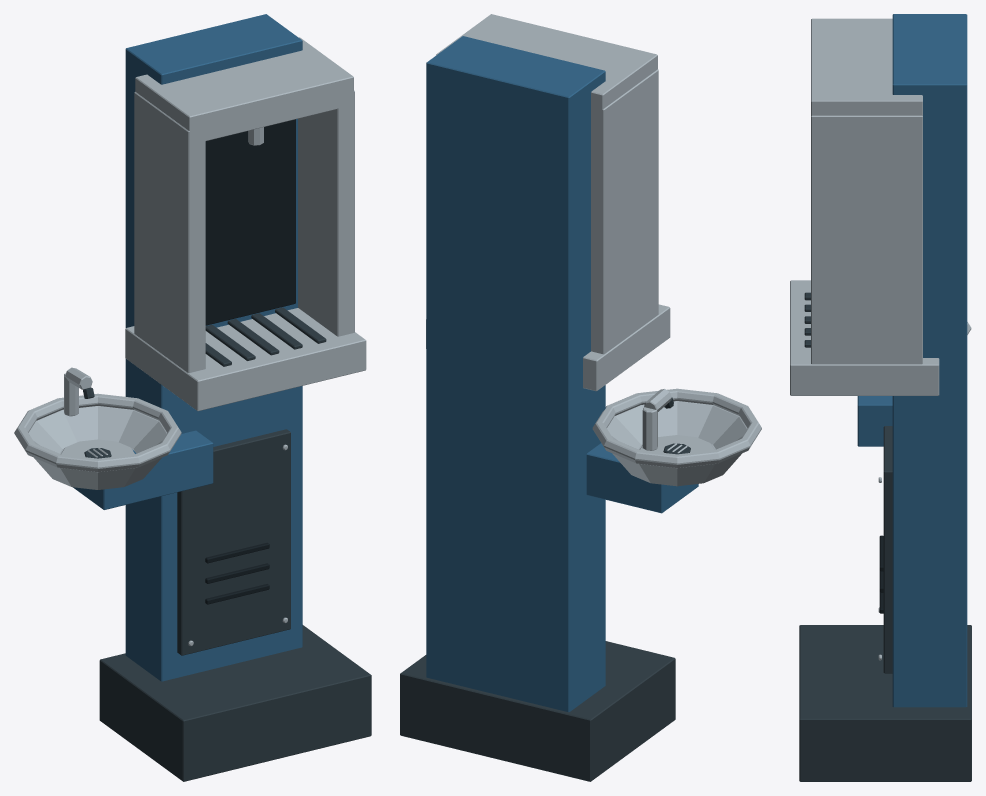
File: b01_bottle_refill_station.glb
3 renders of one model, left to right at view 1: azimuth 30°, elevation 25°; view 2: azimuth 150°, elevation 25°; view 3: azimuth 270°, elevation 25°, orthographic. The views are drawn at different scales.
Visible parts, largest first — view 1: b01_bottle_refill_station; view 2: b01_bottle_refill_station; view 3: b01_bottle_refill_station.
Boxes of the visible parts, bbox=[...] form: b01_bottle_refill_station: bbox=[14, 14, 371, 781]; b01_bottle_refill_station: bbox=[400, 14, 761, 781]; b01_bottle_refill_station: bbox=[790, 14, 971, 781].
Bounding box in the file's own units: 0.774 × 1.62 × 0.39.
